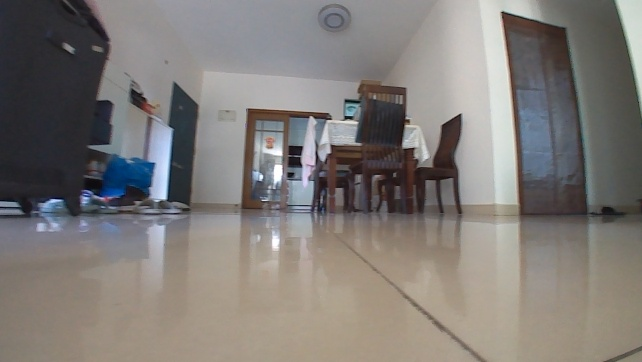dining_table: (297, 78, 466, 212)
door_anno: (164, 79, 199, 206)
slipper: (89, 195, 118, 214), (132, 197, 160, 216), (158, 198, 182, 215)
